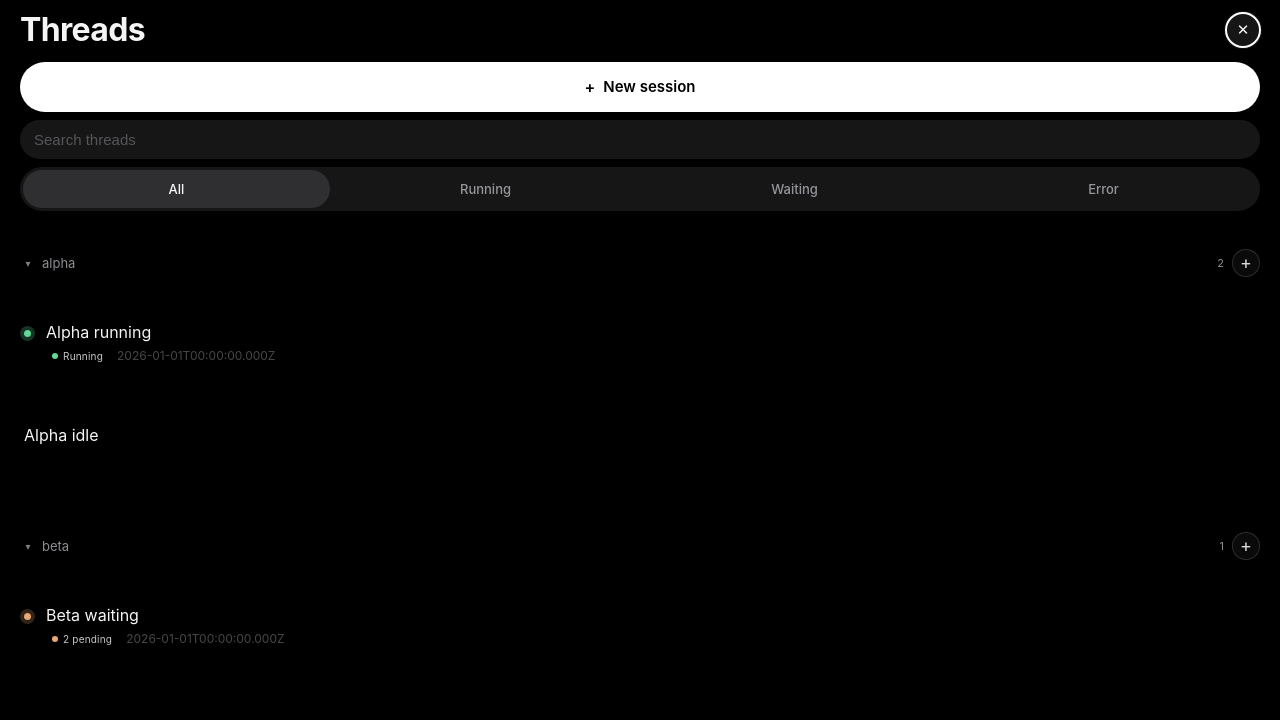
Test: MobileThreadSwitcherOverlay slice 2: drawer + controls › typing in the search box hides non-matching threads and shows a No matches state
The image size is (1280, 720).
Type "nothing-matches-this" into the search field with test id "mobile-thread-switcher-search" at {"x": 640, "y": 139}, box [20,120,1260,159]
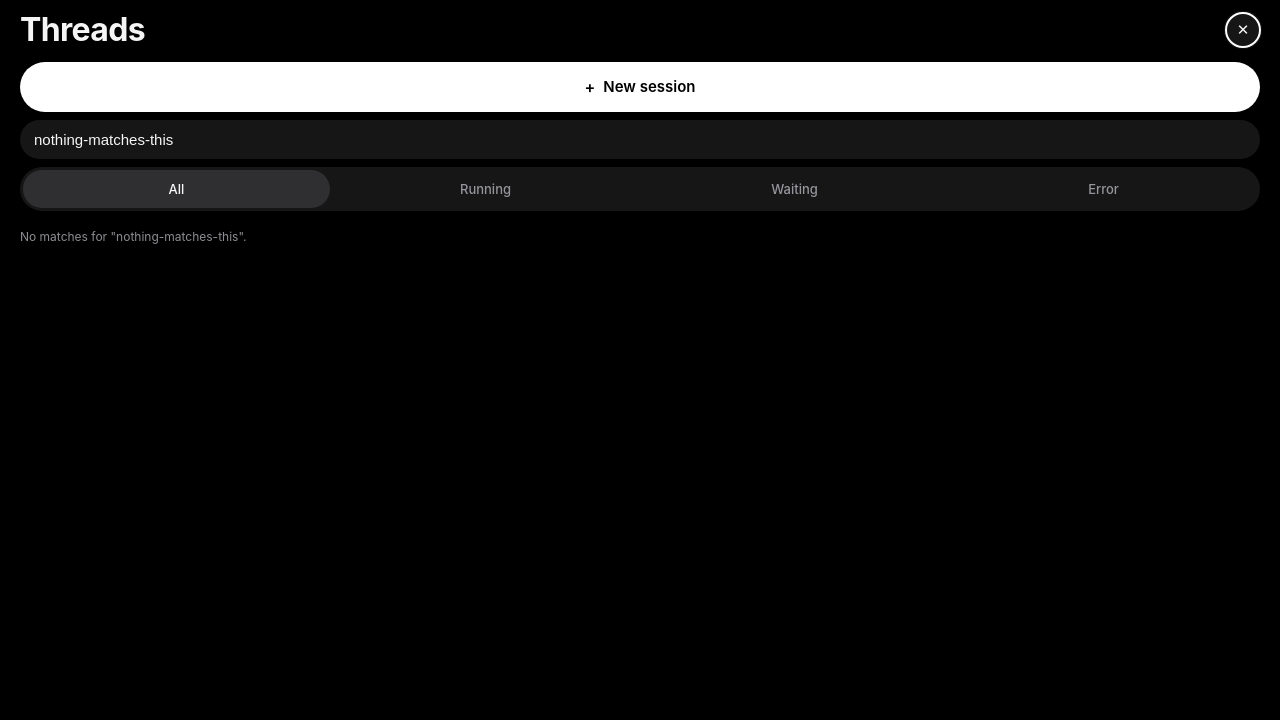
Expected: the button "Alpha running" is gone
Expected: the button "Beta waiting" is gone
Expected: the text with test id "mobile-thread-switcher-empty" shows "No matches", [20,229,246,244]
